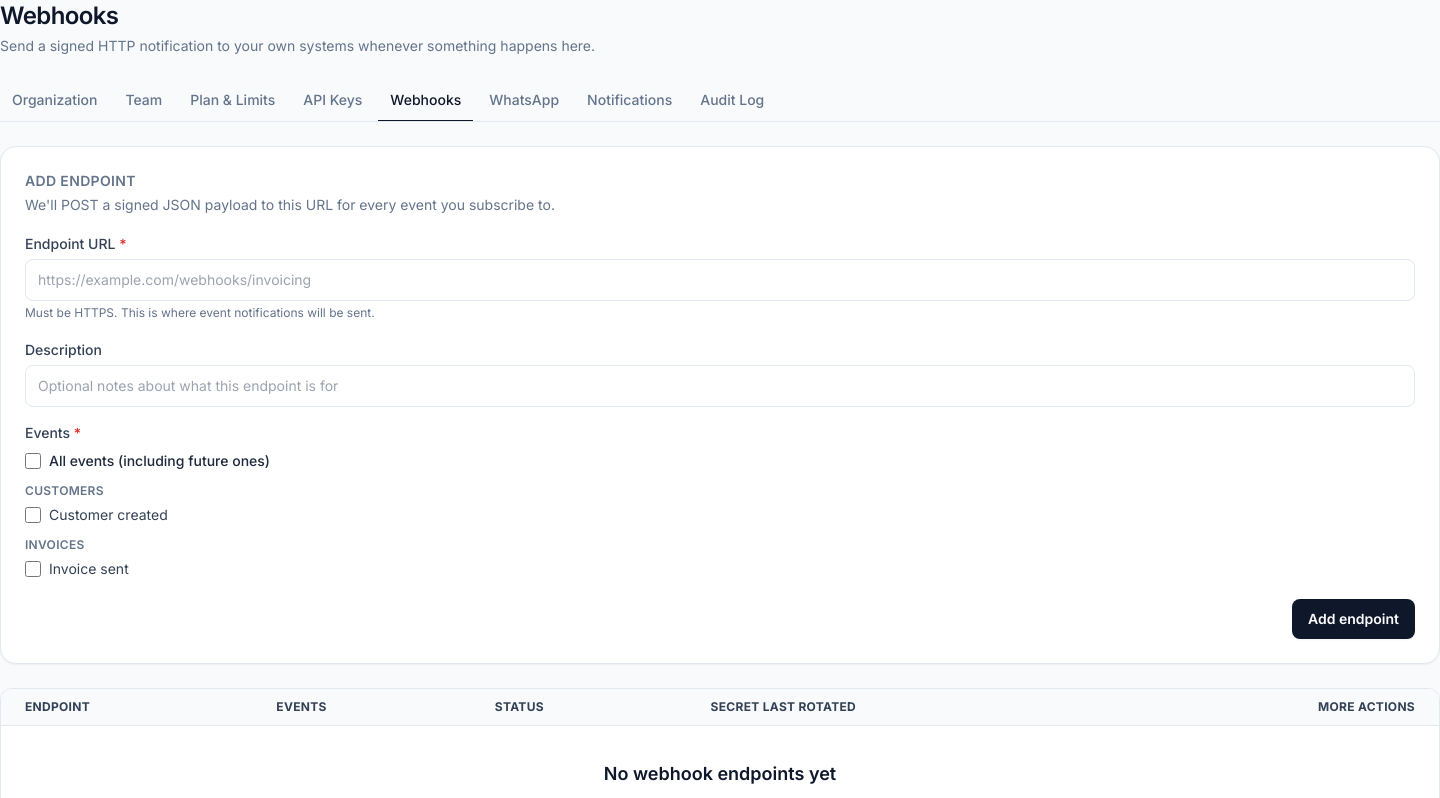
Test: WebhooksPage › creates an endpoint and shows the one-time secret dialog
Type "https://example.com/new-hook" into the field labelled "Endpoint URL *" at (720, 280), box [25,259,1415,301]
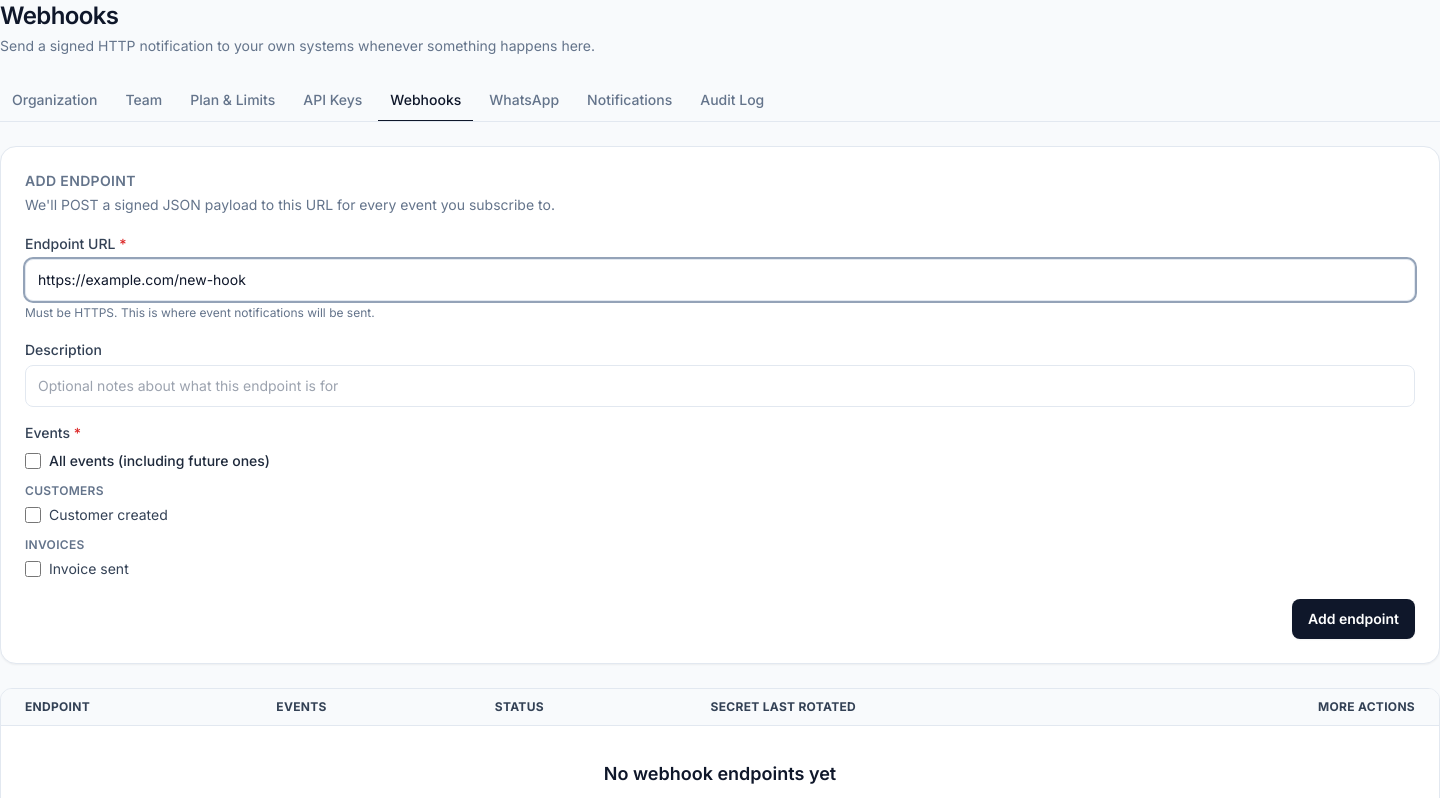
Click the checkbox labelled "Customer created" at (33, 515), box [25,507,41,523]
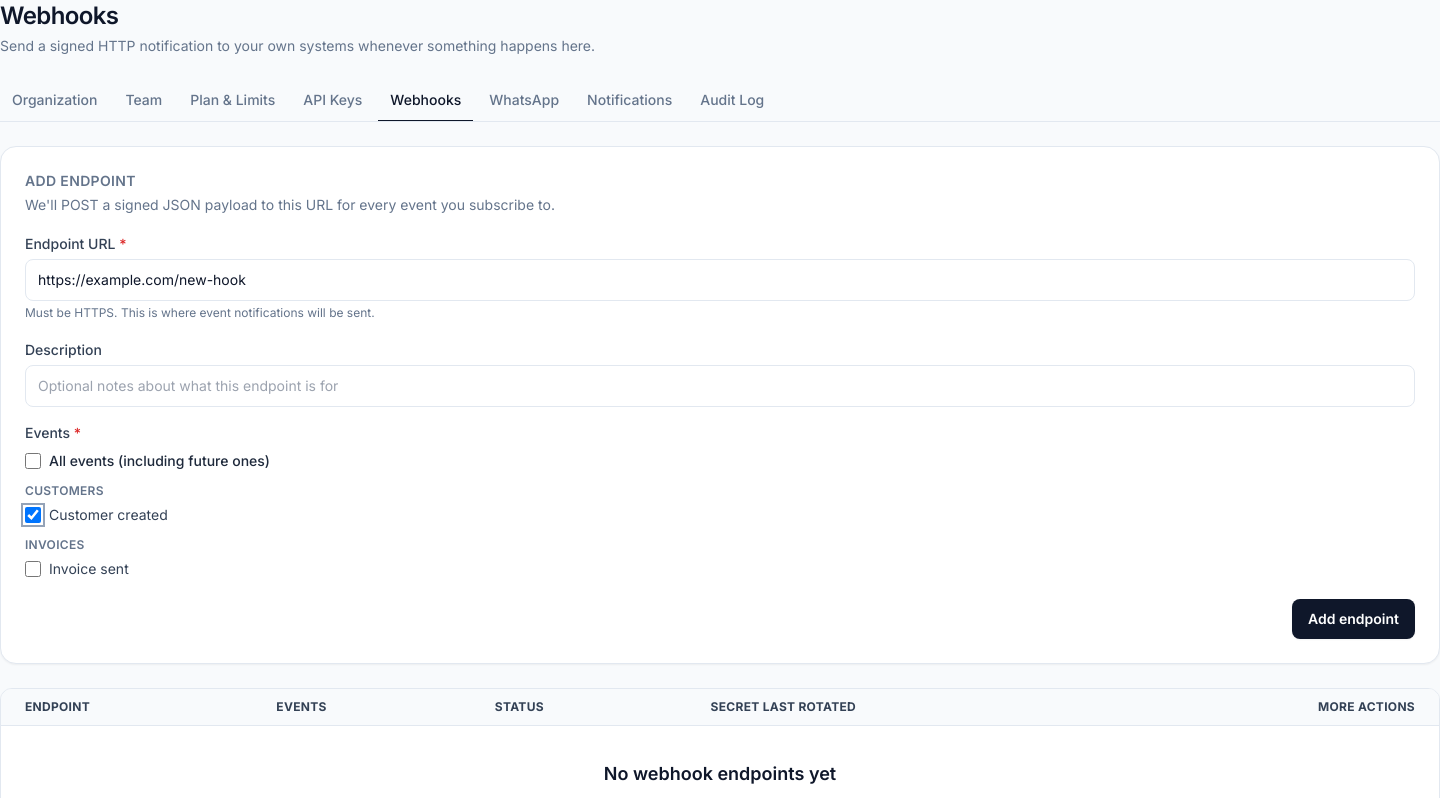
Click the button "Add endpoint" at (1354, 619), box [1292,599,1415,639]
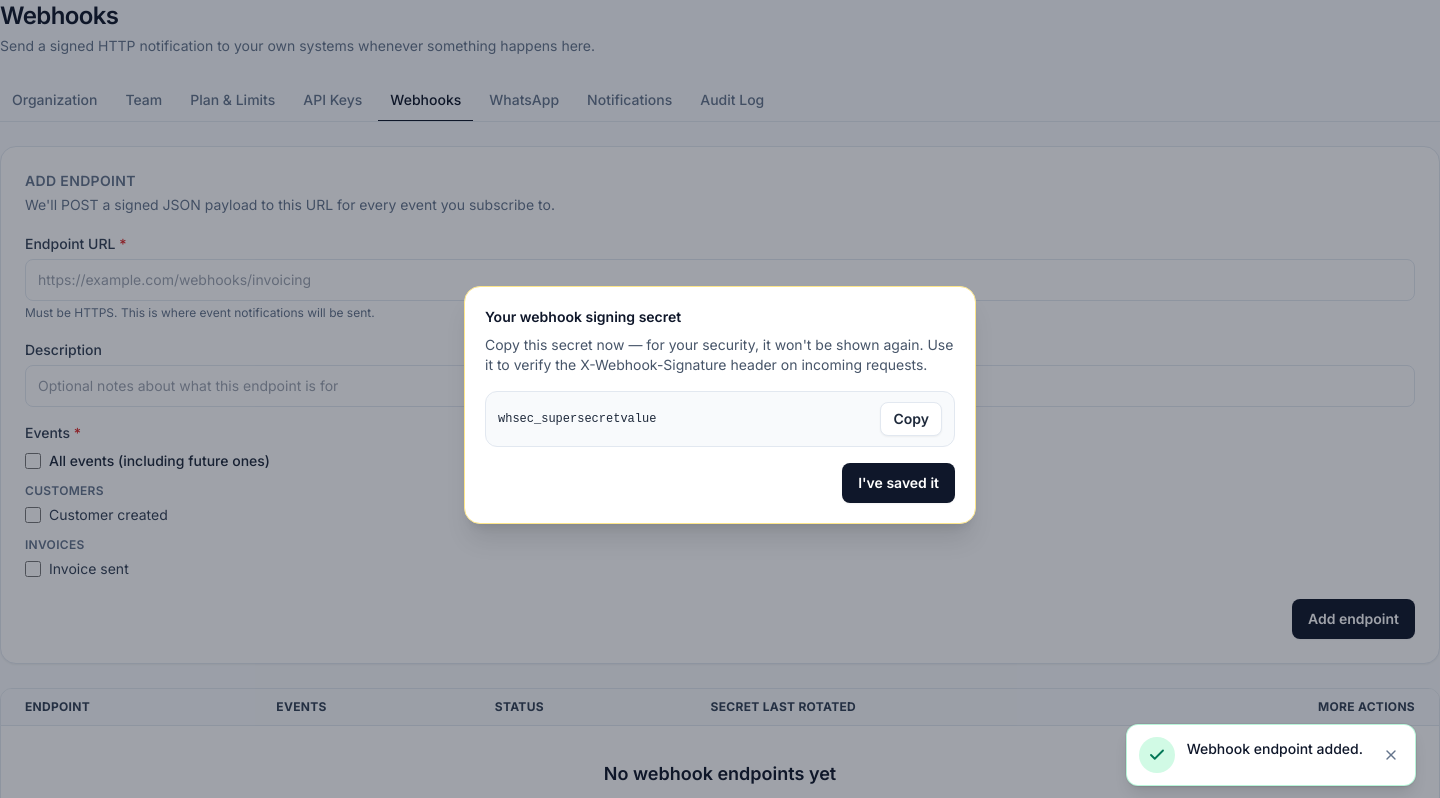
Expected: the dialog is shown, [464,286,976,524]
Expected: the text "whsec_supersecretvalue" is shown, [498,412,656,426]
